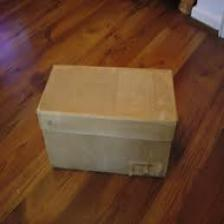cardboard: (35, 53, 185, 189)
